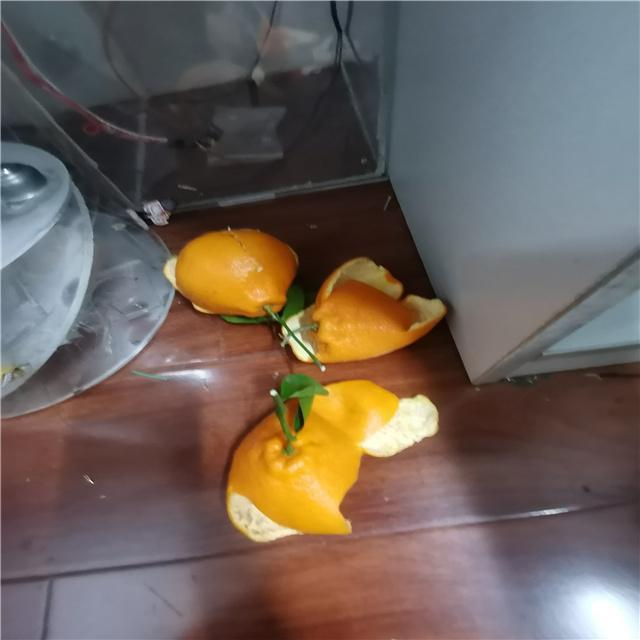orange-peel: (224, 382, 437, 546), (284, 253, 451, 363), (172, 226, 299, 318)
